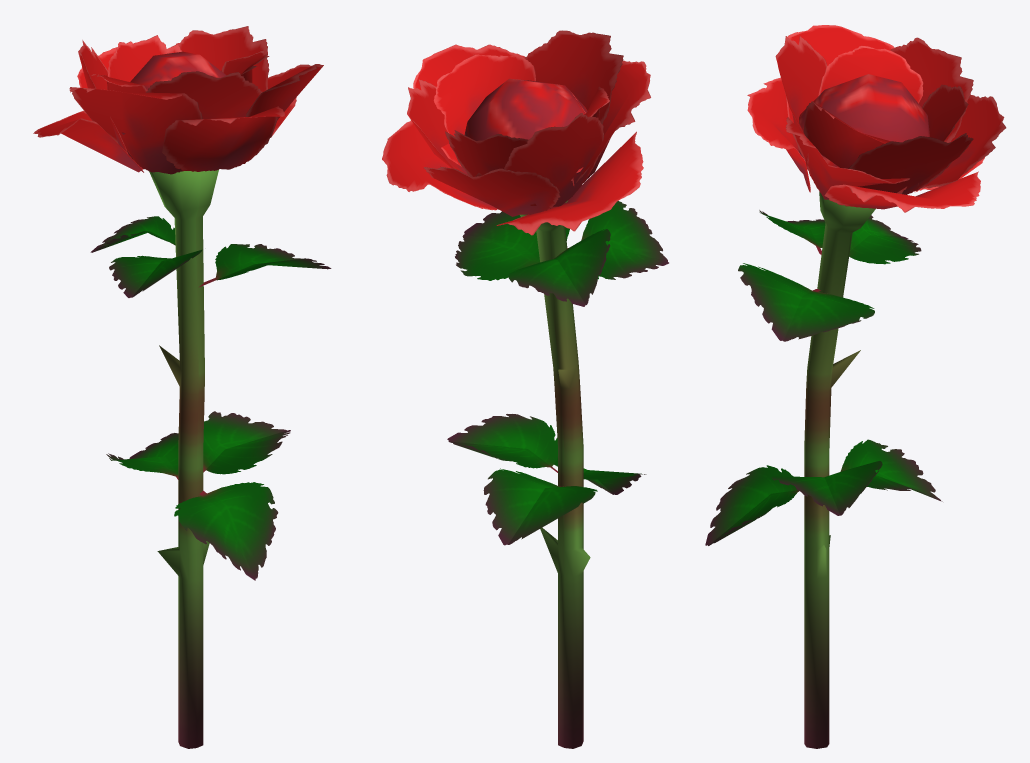
The model's file is DEMOFlowerpack_Rose_Red_Open.fbx.
3 views of the same model, side by side, from view 1: azimuth 30°, elevation 25°; view 2: azimuth 150°, elevation 25°; view 3: azimuth 270°, elevation 25° (orthographic). The views are drawn at different scales.
Parts seen in each view (by area): view 1: Rose_Red_Open; view 2: Rose_Red_Open; view 3: Rose_Red_Open.
Boxes of the visible parts, x1,y1,x2,y2 form: Rose_Red_Open: (33, 26, 331, 748); Rose_Red_Open: (382, 30, 668, 748); Rose_Red_Open: (705, 25, 1006, 748).
Size of the model in its own units: 50.21 by 50.94 by 127.
Materials: 1 (1 with a texture image).
